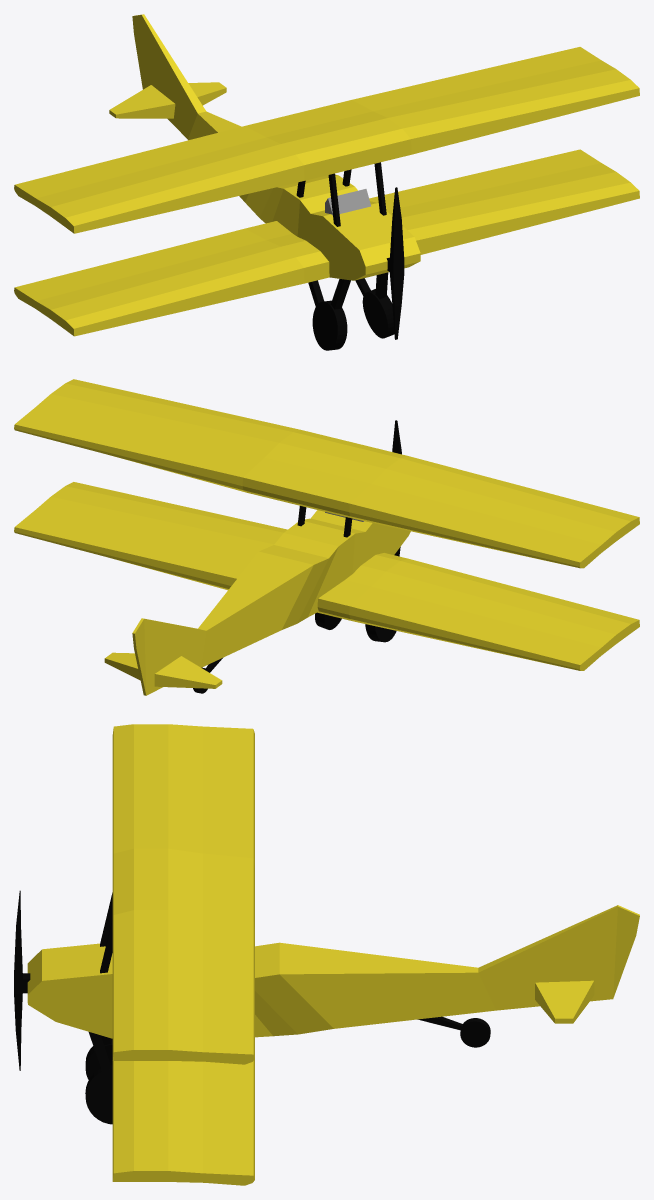
Rendered from Avion 1.fbx.
The picture shows the model from 3 angles, top to bottom: view 1: azimuth 30°, elevation 25°; view 2: azimuth 150°, elevation 25°; view 3: azimuth 270°, elevation 25°; orthographic projection. The views are drawn at different scales.
Parts seen in each view (by area): view 1: toit, toit.001, base Avion, aeroplane, hélice, roue, roue.001, visière; view 2: toit, toit.001, base Avion, aeroplane; view 3: toit, base Avion, toit.001, aeroplane, roue.001, hélice, roue.002.
Part boxes in pixels (bbox=[...]): toit: bbox=[14, 47, 639, 233]; toit.001: bbox=[14, 149, 639, 336]; base Avion: bbox=[132, 14, 420, 280]; aeroplane: bbox=[109, 82, 226, 118]; hélice: bbox=[386, 187, 404, 339]; roue: bbox=[312, 300, 347, 350]; roue.001: bbox=[362, 289, 394, 338]; visière: bbox=[325, 189, 370, 215]; toit: bbox=[14, 379, 639, 568]; toit.001: bbox=[14, 482, 639, 670]; base Avion: bbox=[132, 510, 410, 695]; aeroplane: bbox=[104, 652, 222, 688]; toit: bbox=[112, 724, 254, 1064]; base Avion: bbox=[27, 905, 639, 1038]; toit.001: bbox=[112, 1059, 254, 1185]; aeroplane: bbox=[535, 980, 594, 1023]; roue.001: bbox=[85, 1065, 112, 1124]; hélice: bbox=[14, 890, 30, 1070]; roue.002: bbox=[460, 1018, 490, 1047].
Size of the model in its own units: 568 by 187 by 462.
